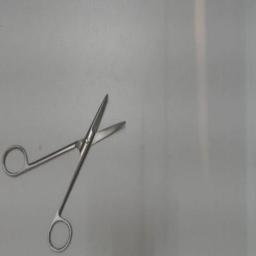Curved Mayo Scissors: (2, 92, 130, 254)
